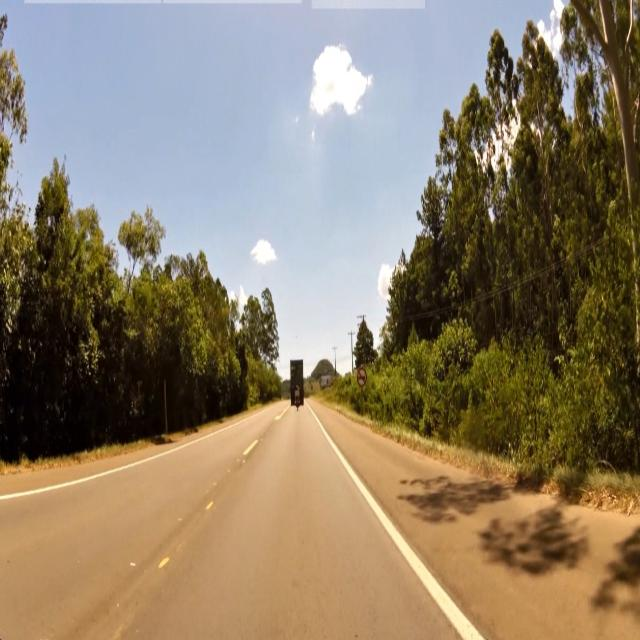R-7: (356, 366, 366, 389)
